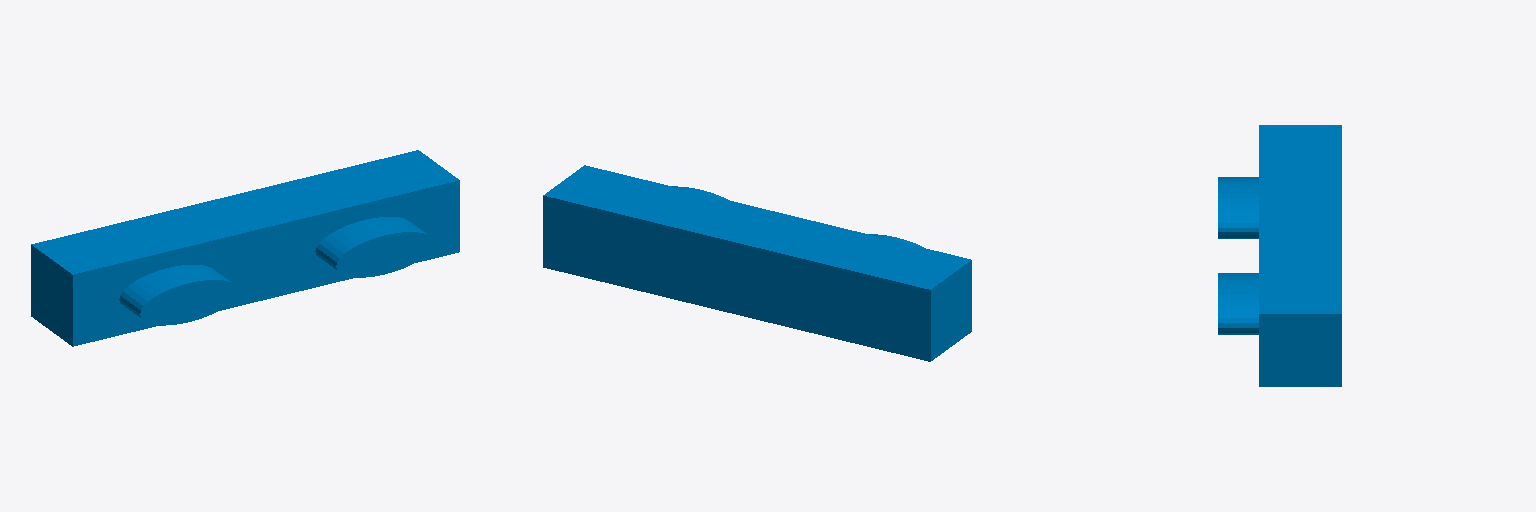
File: paddle.obj
3 renders of one model, left to right at view 1: azimuth 30°, elevation 25°; view 2: azimuth 150°, elevation 25°; view 3: azimuth 270°, elevation 25°, orthographic.
Visible parts, largest first — view 1: object0; view 2: object0; view 3: object0.
Part boxes in pixels (left/top/right/bottom): object0: left=31, top=150, right=459, bottom=346; object0: left=543, top=165, right=971, bottom=361; object0: left=1218, top=125, right=1341, bottom=386.
Bounding box in the file's own units: 5.24 × 0.9314 × 1.46.